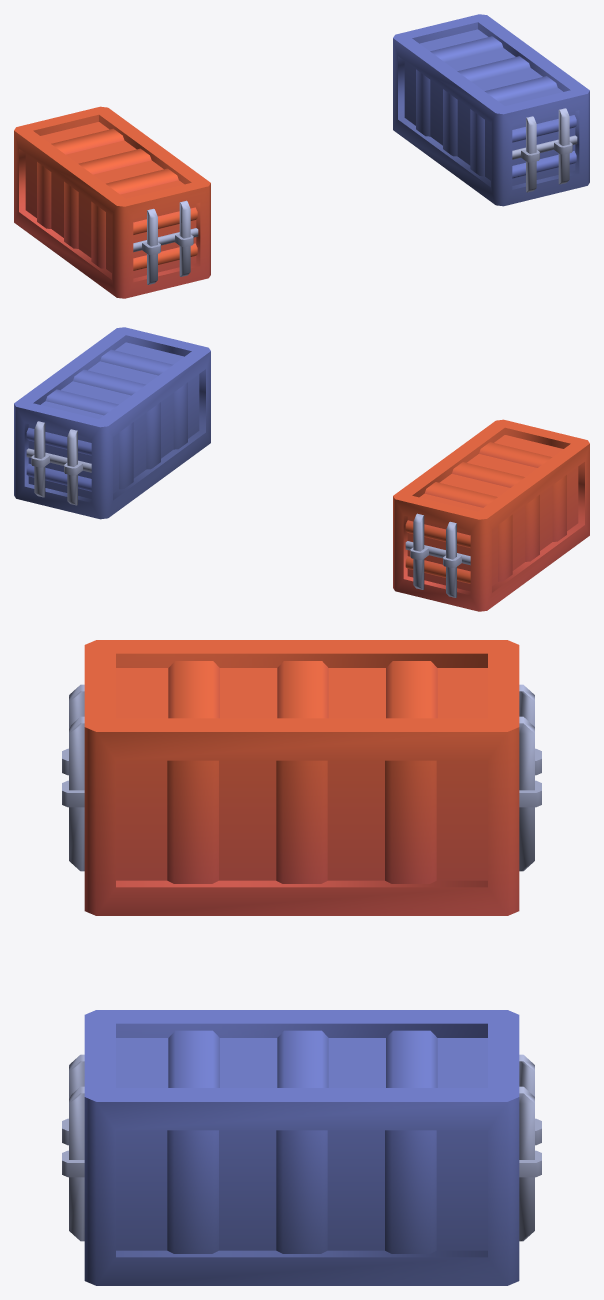
Rendered from containers.glb.
3 views of the same model, one above another, from view 1: azimuth 30°, elevation 25°; view 2: azimuth 150°, elevation 25°; view 3: azimuth 270°, elevation 25° (orthographic). The views are drawn at different scales.
Visible parts, largest first — view 1: containers; view 2: containers; view 3: containers.
Part boxes in pixels (box(x1,y1,x2,y2)): containers: box(14, 14, 589, 298); containers: box(14, 327, 589, 611); containers: box(62, 640, 541, 1285).
Size of the model in its own units: 11.24 by 2.09 by 4.94.
3 materials, 3 textured.
